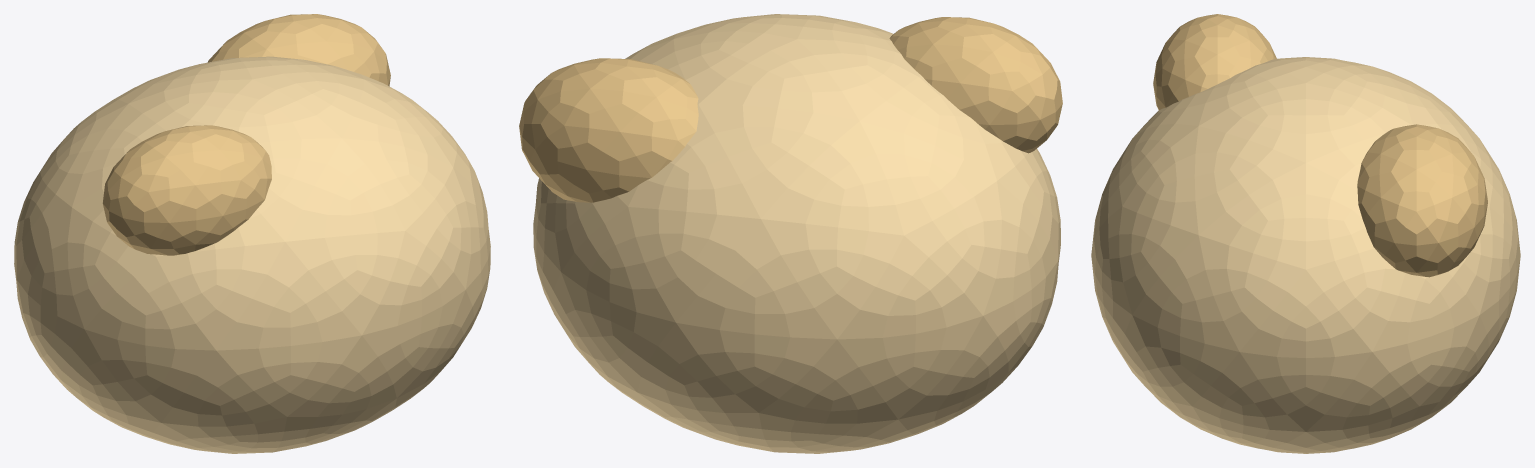
The model's file is bread.glb.
The picture shows the model from 3 angles, left to right: view 1: azimuth 30°, elevation 25°; view 2: azimuth 150°, elevation 25°; view 3: azimuth 270°, elevation 25°; orthographic projection. The views are drawn at different scales.
Visible parts, largest first — view 1: PaoDeQueijo; view 2: PaoDeQueijo; view 3: PaoDeQueijo.
Boxes of the visible parts, left/top/right/bottom form: PaoDeQueijo: left=14, top=14, right=490, bottom=453; PaoDeQueijo: left=519, top=14, right=1062, bottom=453; PaoDeQueijo: left=1091, top=14, right=1520, bottom=453.
Size of the model in its own units: 0.4342 by 0.3507 by 0.3884.
